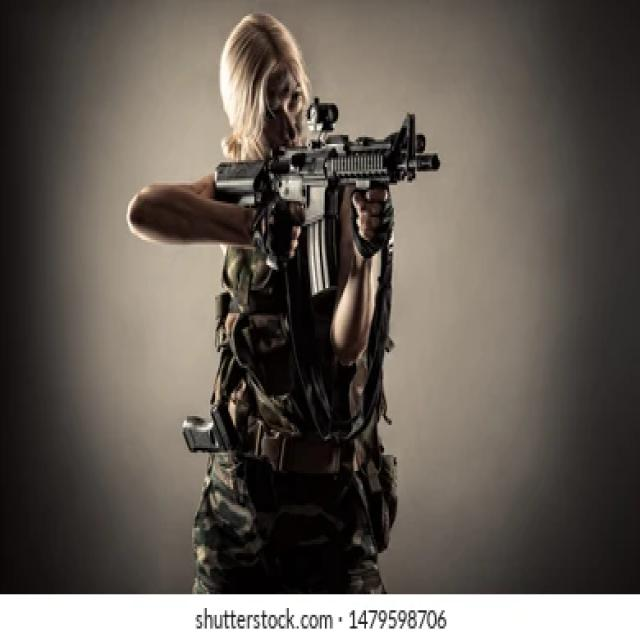soldier: (129, 1, 442, 586)
